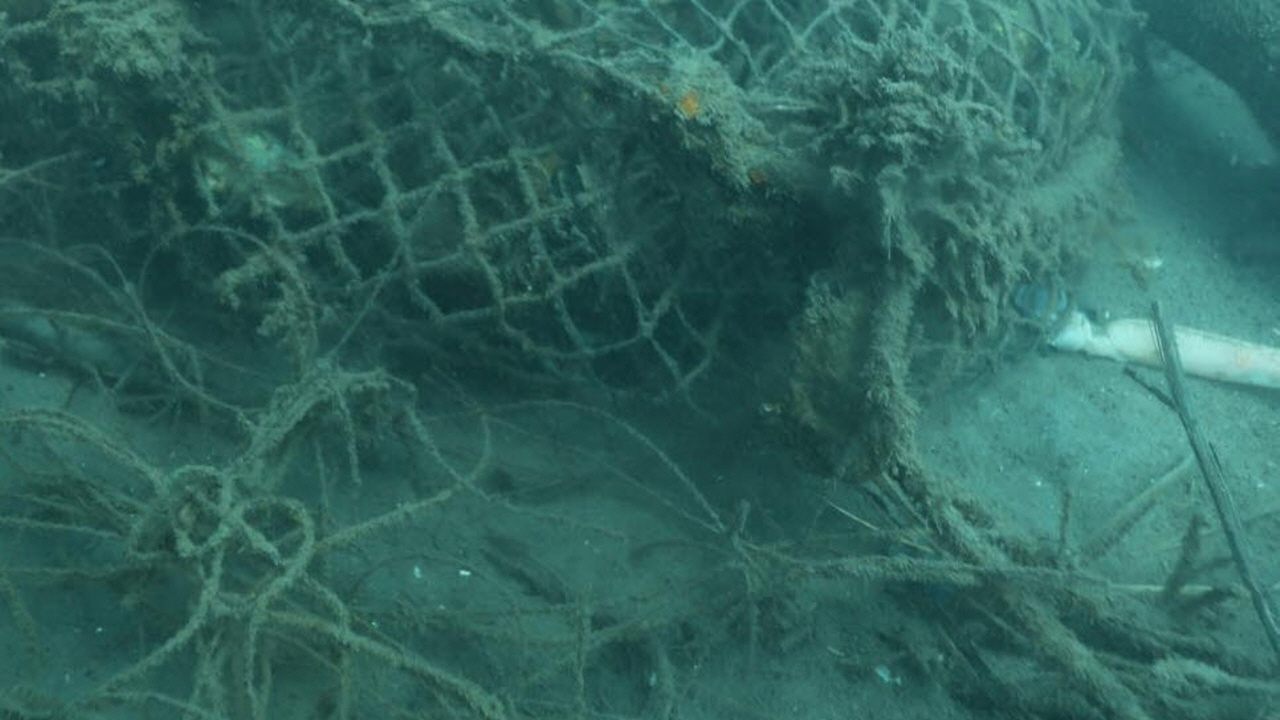fish net: (0, 0, 1124, 422)
